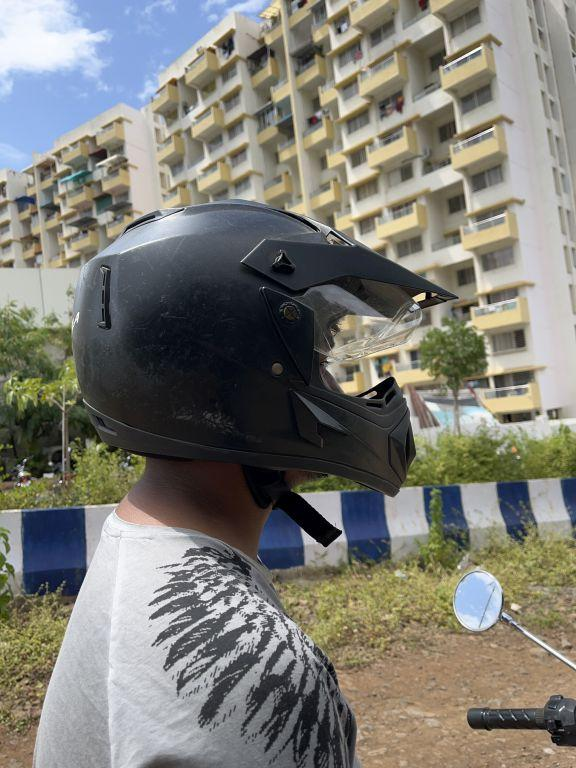helmet: (60, 180, 474, 514)
